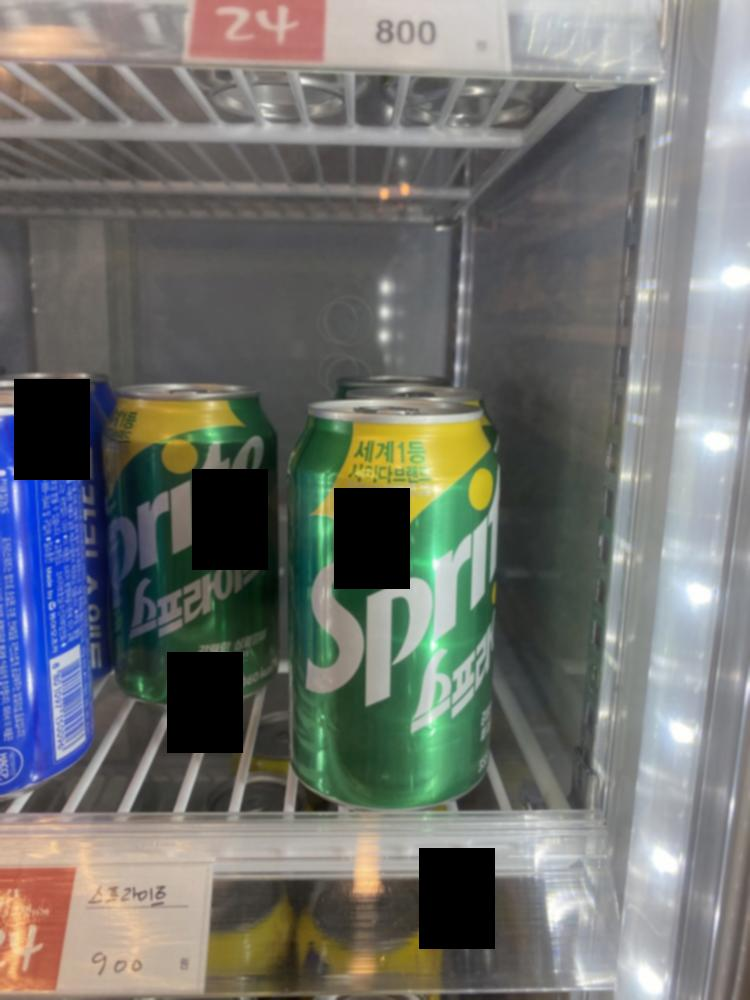sprite: (273, 395, 498, 838)
